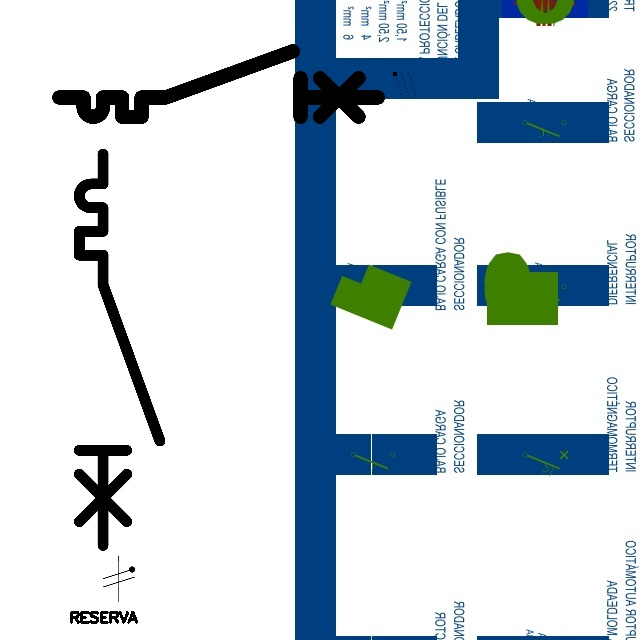interruptor_termomagnetico: (69, 144, 169, 555), (51, 43, 386, 125)
